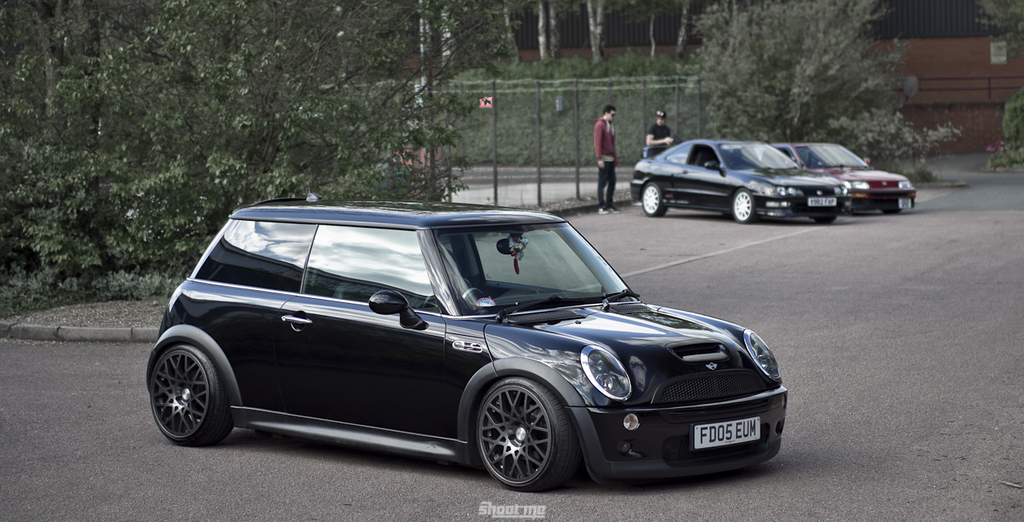Car: (128, 197, 794, 497), (635, 135, 840, 219), (780, 136, 915, 211)
